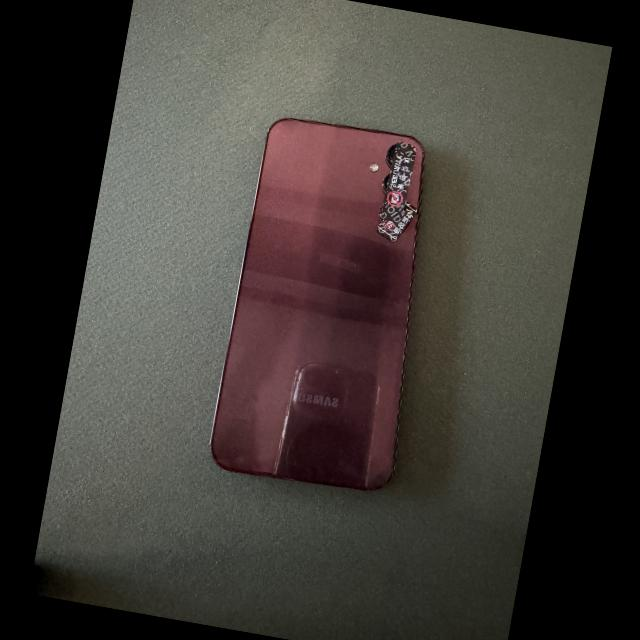lens: (387, 145, 395, 166), (383, 173, 390, 192)
phone: (211, 118, 423, 490)
sticker: (379, 141, 417, 222), (377, 201, 418, 241)
